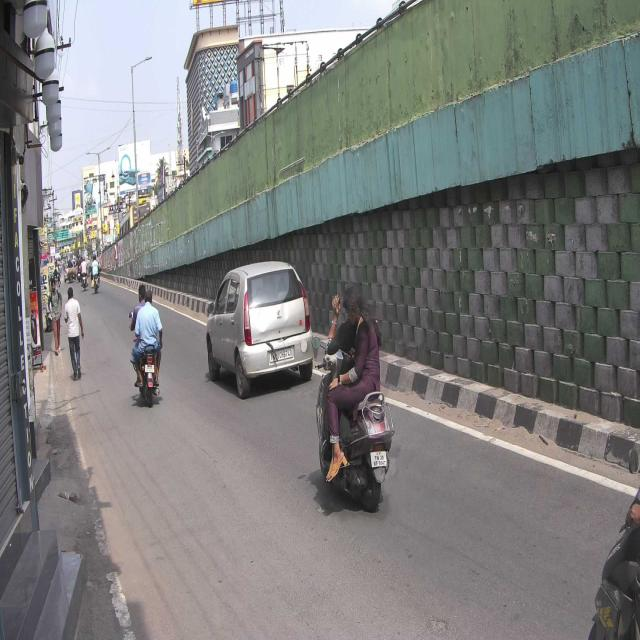double_rider: (312, 282, 396, 513), (129, 283, 165, 408)
